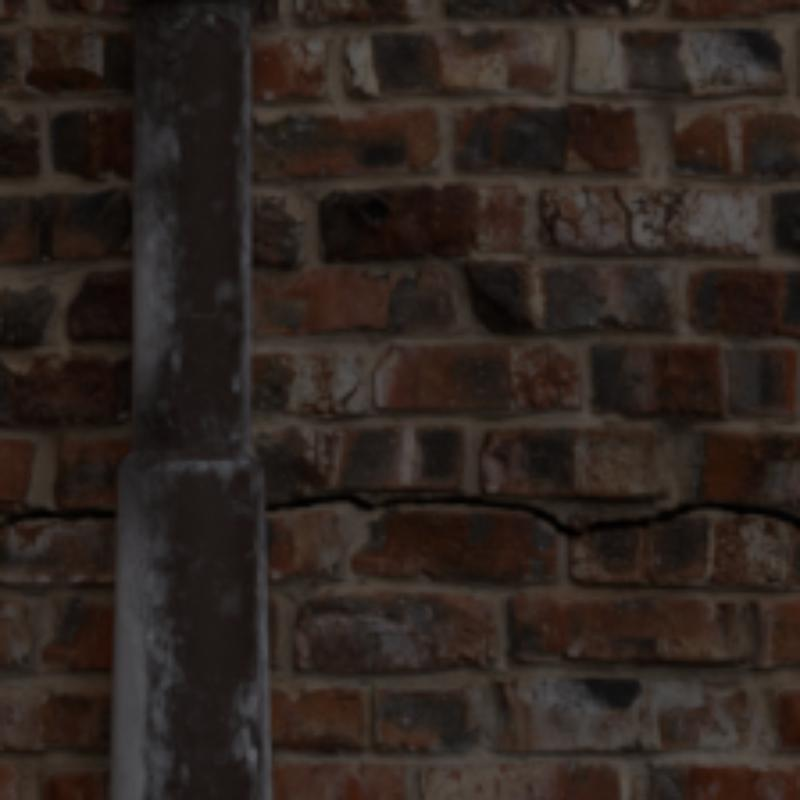pothole: (264, 493, 796, 536), (0, 507, 114, 525), (611, 186, 639, 250), (336, 386, 357, 407)
